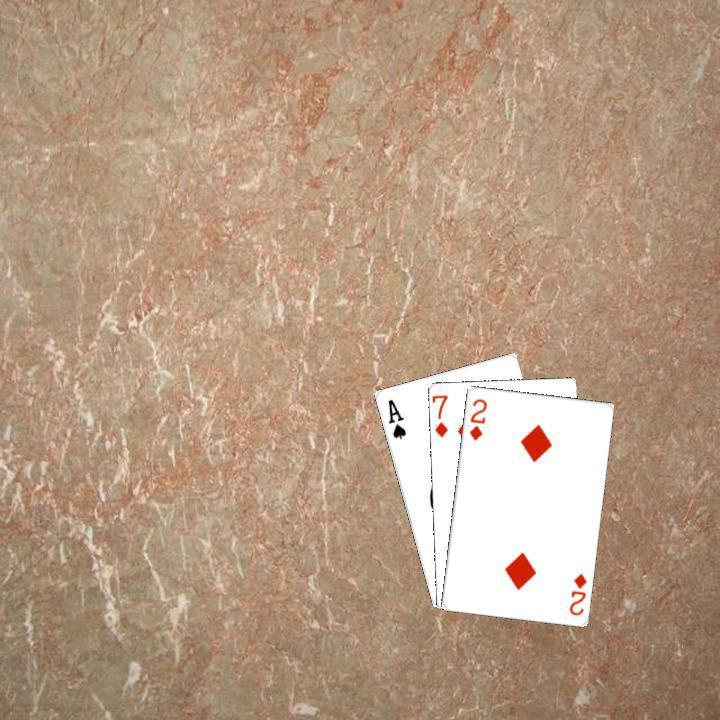2: (465, 394, 488, 442), (565, 569, 588, 617)
7: (430, 390, 449, 439)
A: (383, 394, 408, 441)
